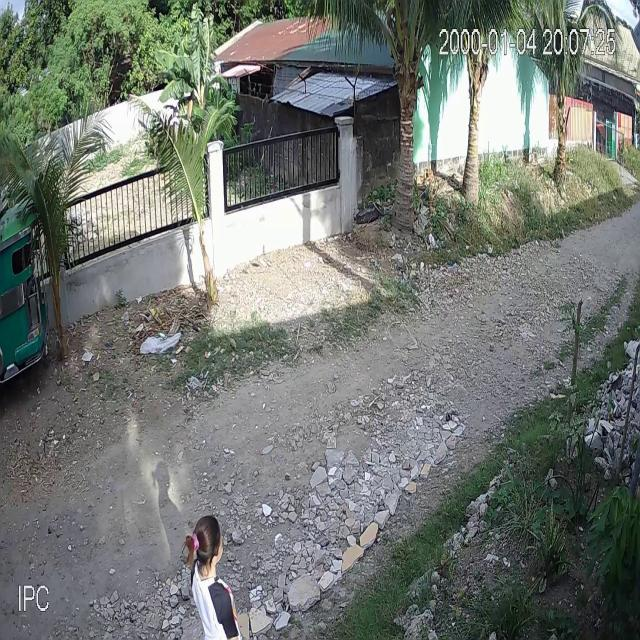standing: (177, 510, 247, 640)
